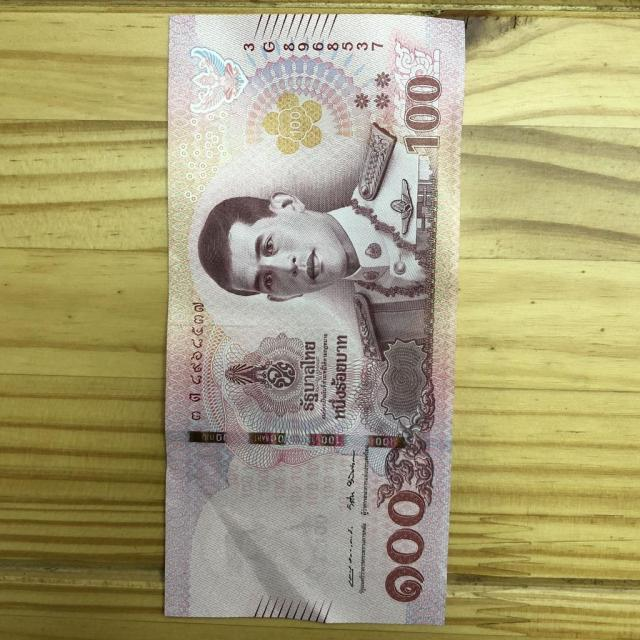THAI100: (166, 14, 464, 623)
